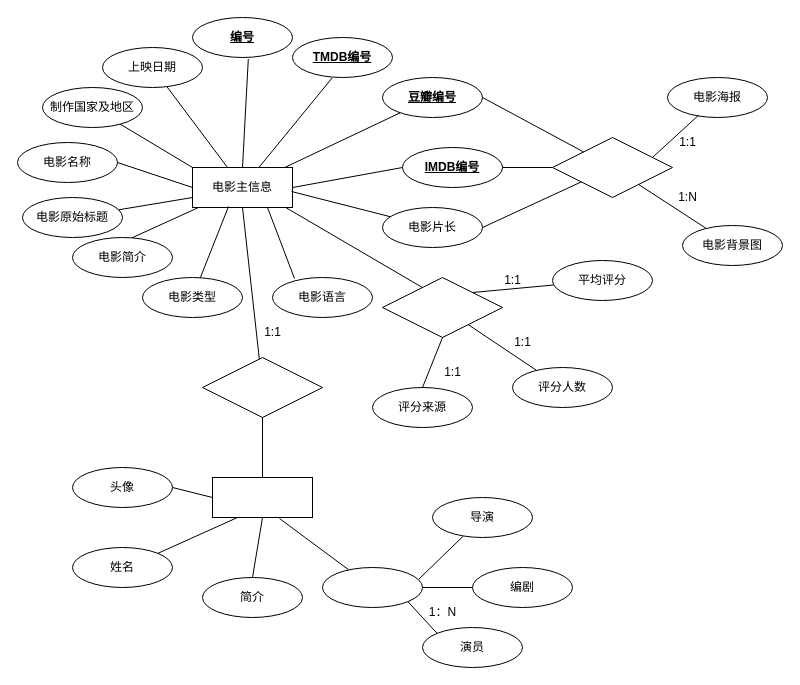
The diagram is 800 pixels wide and 685 high, and some of its shapes have lost their labels. Each missing label, with the box of its shape:
人物信息: (212, 476, 312, 518)
制作团队: (202, 356, 322, 418)
角色: (322, 566, 422, 608)
评分: (382, 276, 502, 338)
链接: (552, 136, 672, 198)
